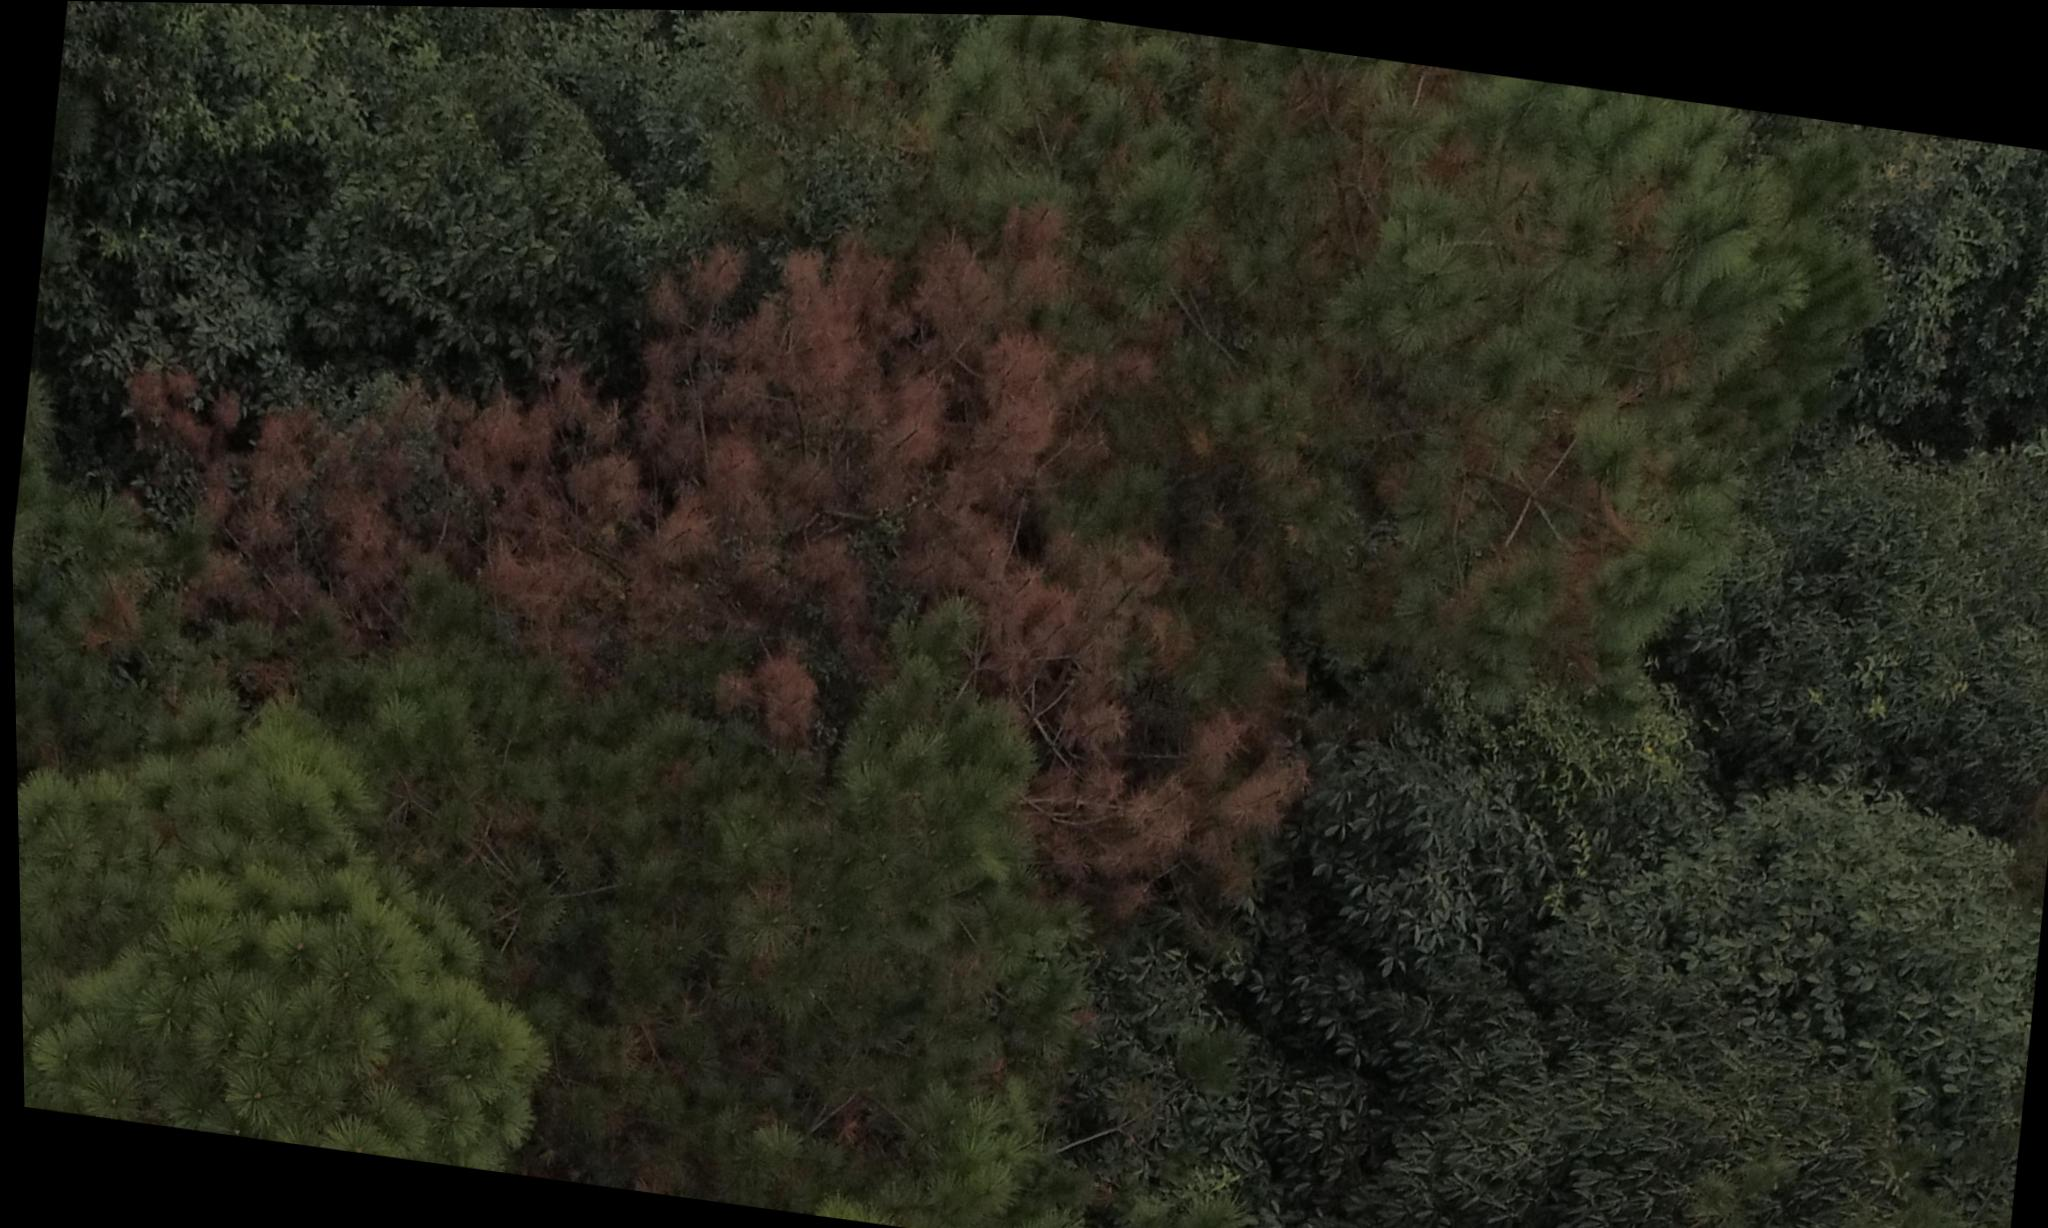heavy: (99, 123, 1324, 925)
light: (1300, 80, 1829, 732)
